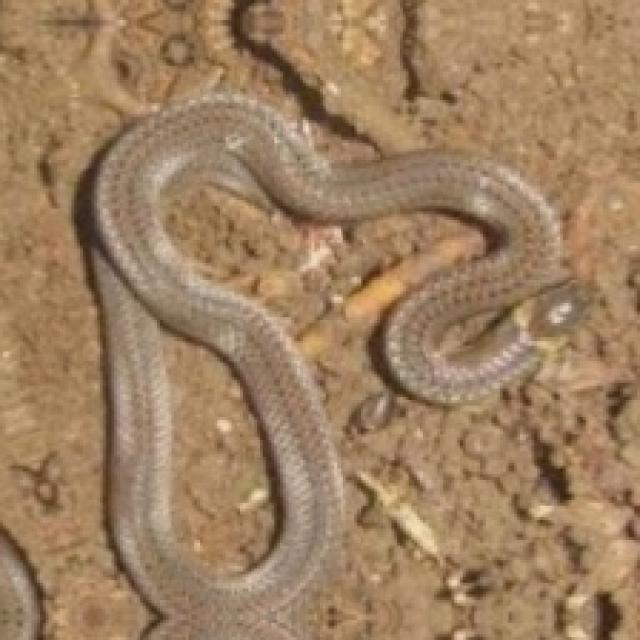gervais worm snake: (77, 94, 563, 637), (299, 229, 485, 361)
